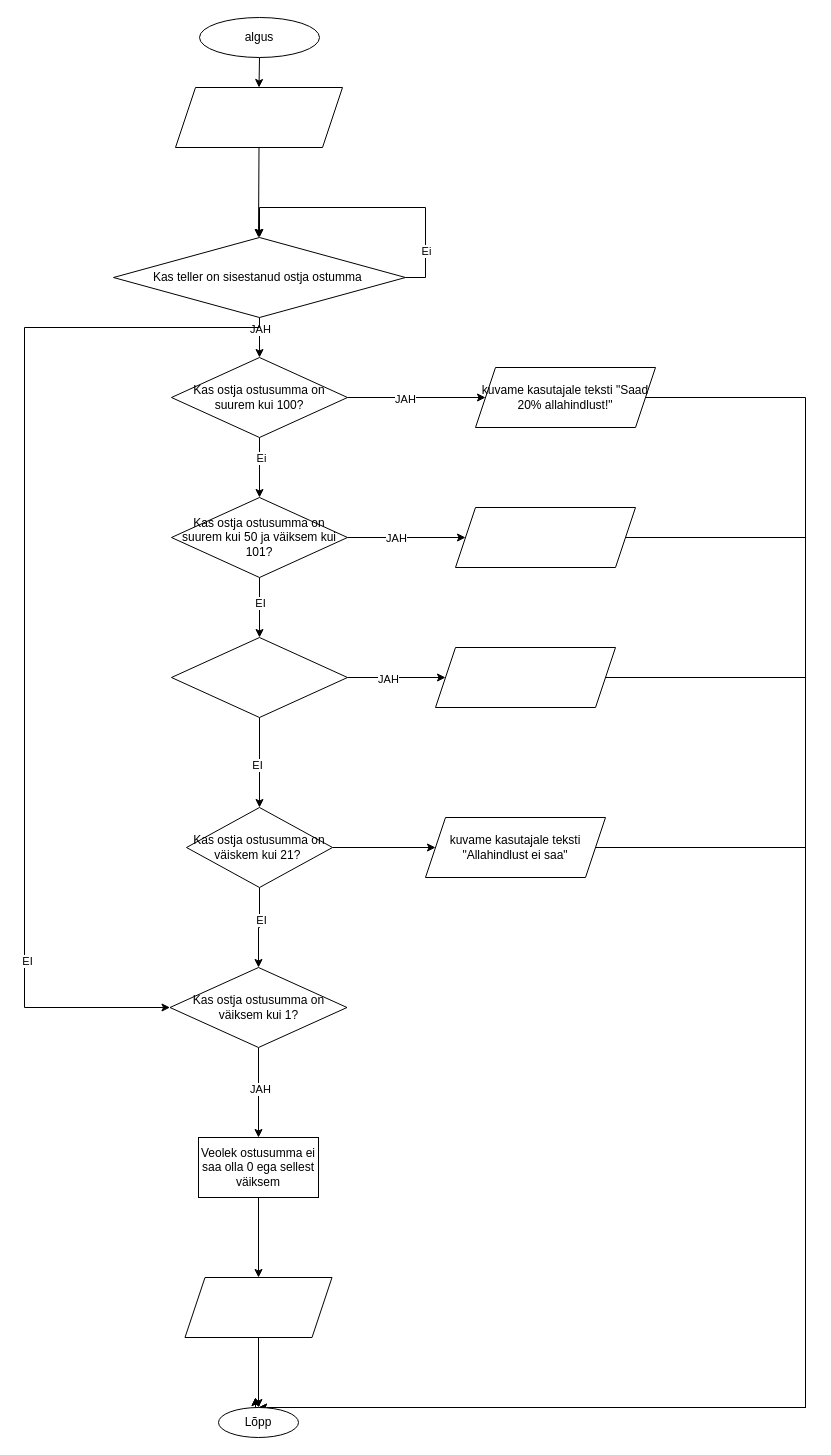
This 831x1455 diagram has some shape labels left out. Each missing label, with the box of its shape:
Kas ostja ostusumma on suurem kui 20 ja väiksem kui 51?: (170, 636, 348, 718)
Kuva kasutaja tekst "Sisesta ostusumma": (174, 86, 342, 148)
Kuva tekst "Sisestaud vigane arv": (184, 1276, 332, 1338)
kuvame kasutajale teksti "Saad 10% allahindlust!": (454, 506, 636, 568)
kuvame kasutajale teksti "Saad 5% allahindlust!": (434, 646, 616, 708)
